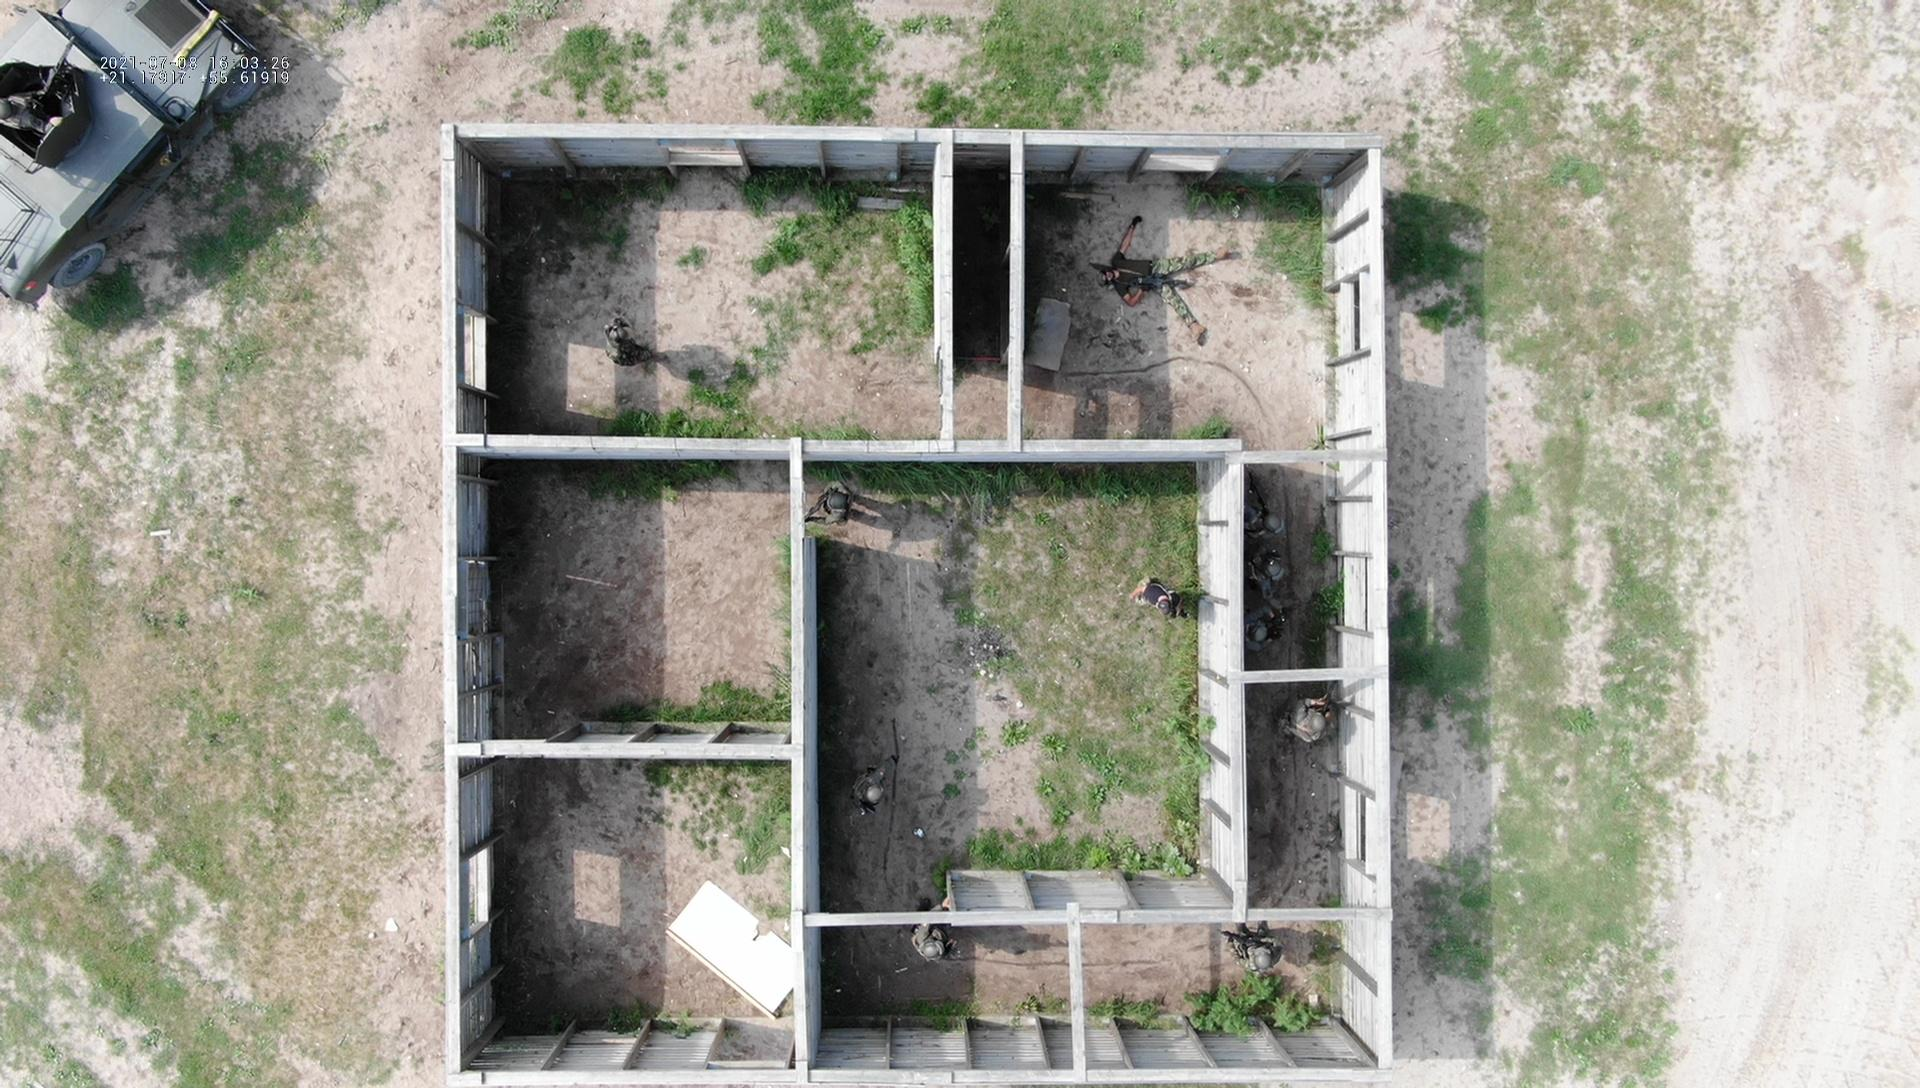Soldier: (1093, 202, 1253, 349), (1222, 915, 1305, 984), (595, 313, 665, 386), (3, 58, 61, 144), (840, 754, 907, 823), (1288, 692, 1349, 765), (1138, 568, 1204, 628), (810, 455, 855, 531), (1242, 593, 1288, 665), (1244, 477, 1287, 539), (1250, 549, 1292, 605), (905, 922, 951, 967)
